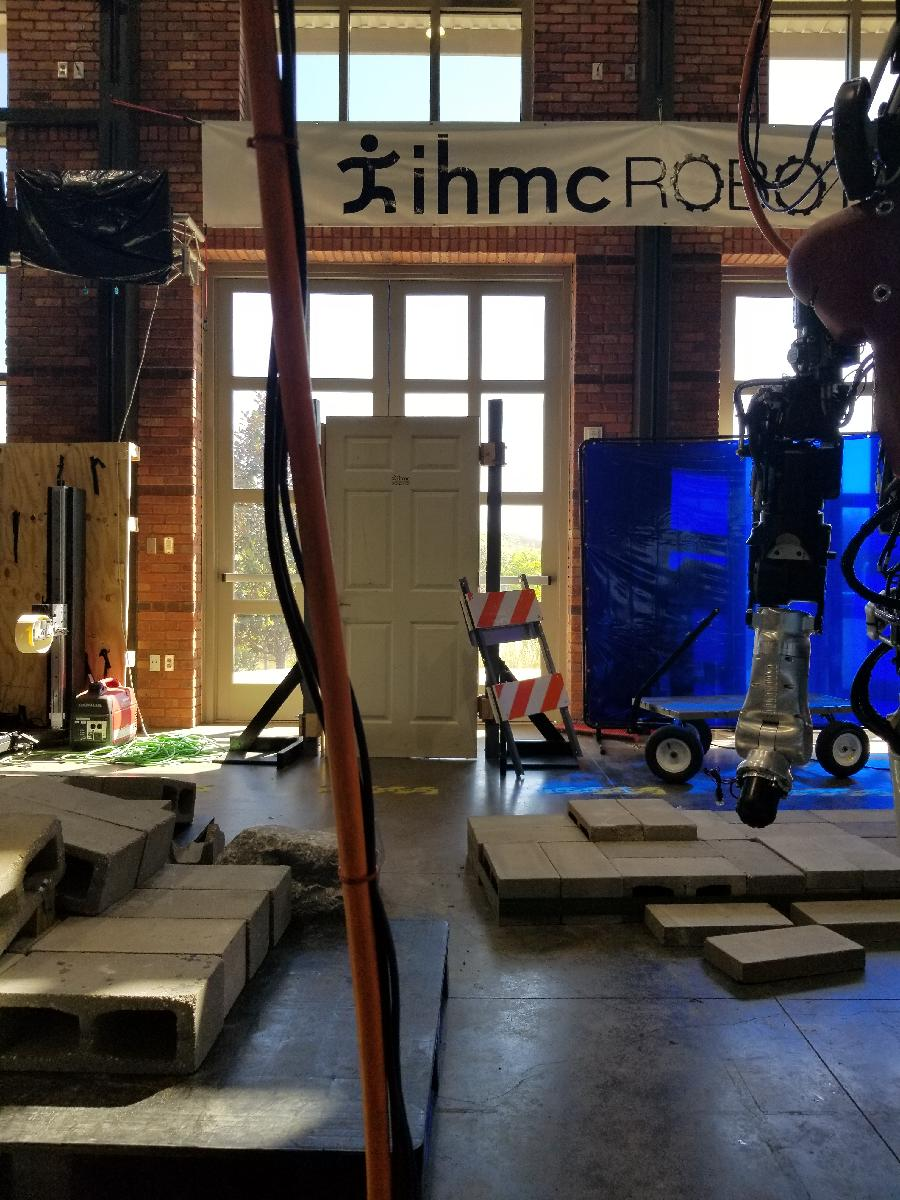door: (321, 410, 489, 768)
doorHandle: (328, 593, 352, 612)
